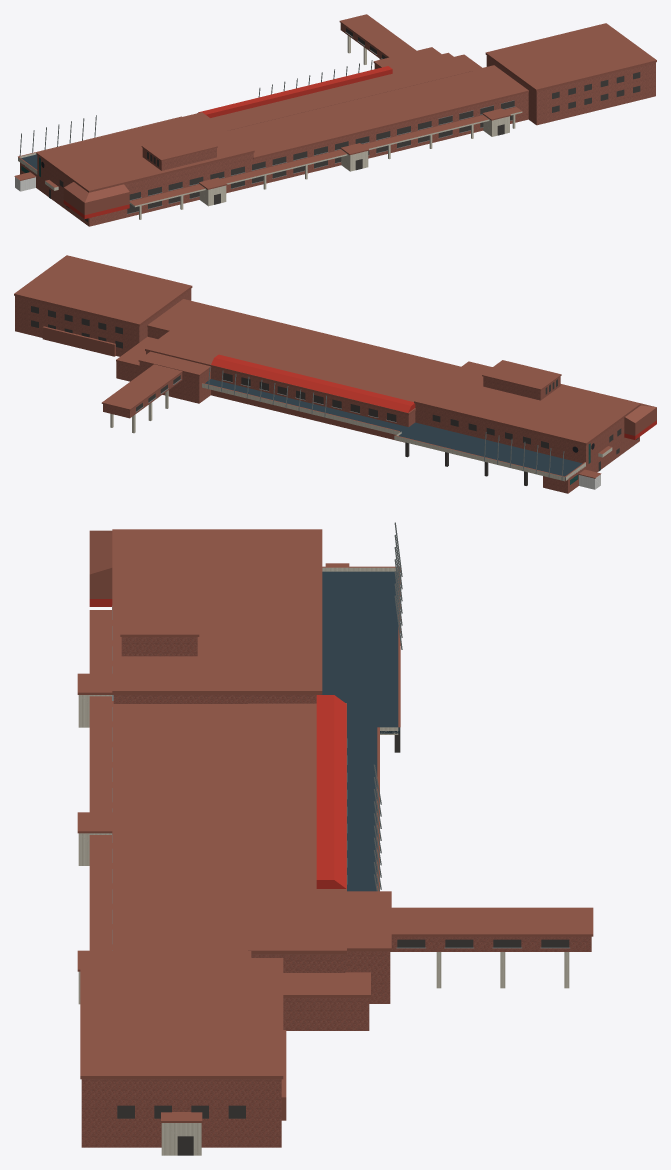
Rendered from cyxd_hangar21_lod1.gltf.
The picture shows the model from 3 angles, top to bottom: view 1: azimuth 30°, elevation 25°; view 2: azimuth 150°, elevation 25°; view 3: azimuth 270°, elevation 25°; orthographic projection. The views are drawn at different scales.
Parts seen in each view (by area): view 1: cyxd_hangar21; view 2: cyxd_hangar21; view 3: cyxd_hangar21.
Boxes of the visible parts, bbox=[...] form: cyxd_hangar21: bbox=[14, 14, 656, 226]; cyxd_hangar21: bbox=[14, 255, 656, 493]; cyxd_hangar21: bbox=[77, 522, 593, 1155].
Size of the model in its own units: 169 by 13.1 by 64.5.
